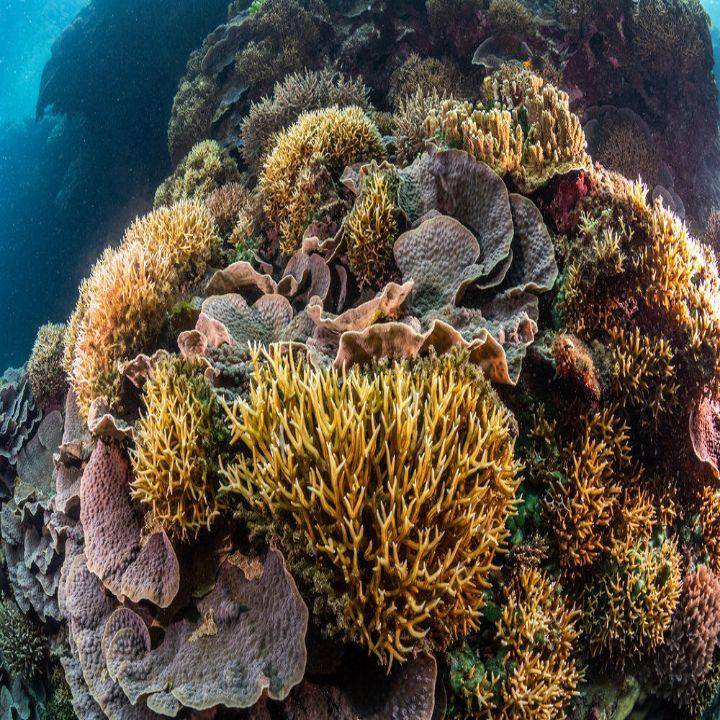Healthy Coral: (13, 129, 713, 706)
